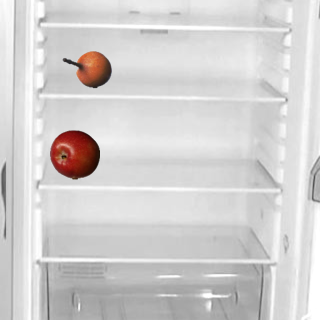Apple Braeburn: (49, 129, 99, 179)
Granadilla: (61, 44, 111, 94)
